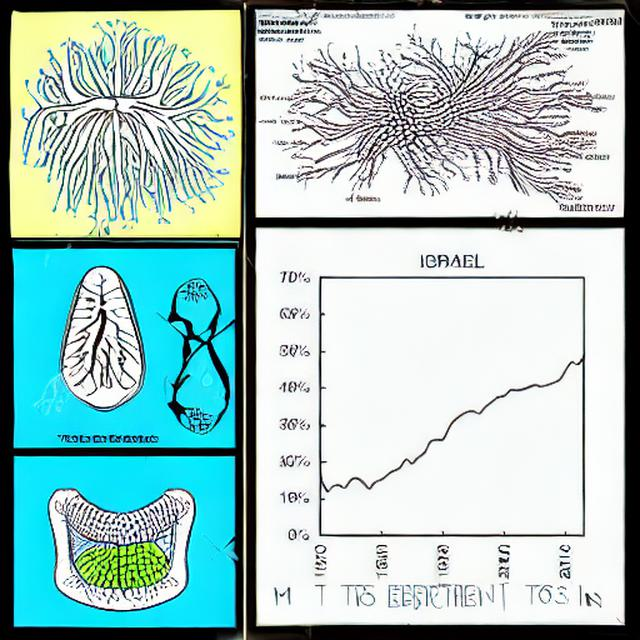Graph: (262, 238, 607, 583)
